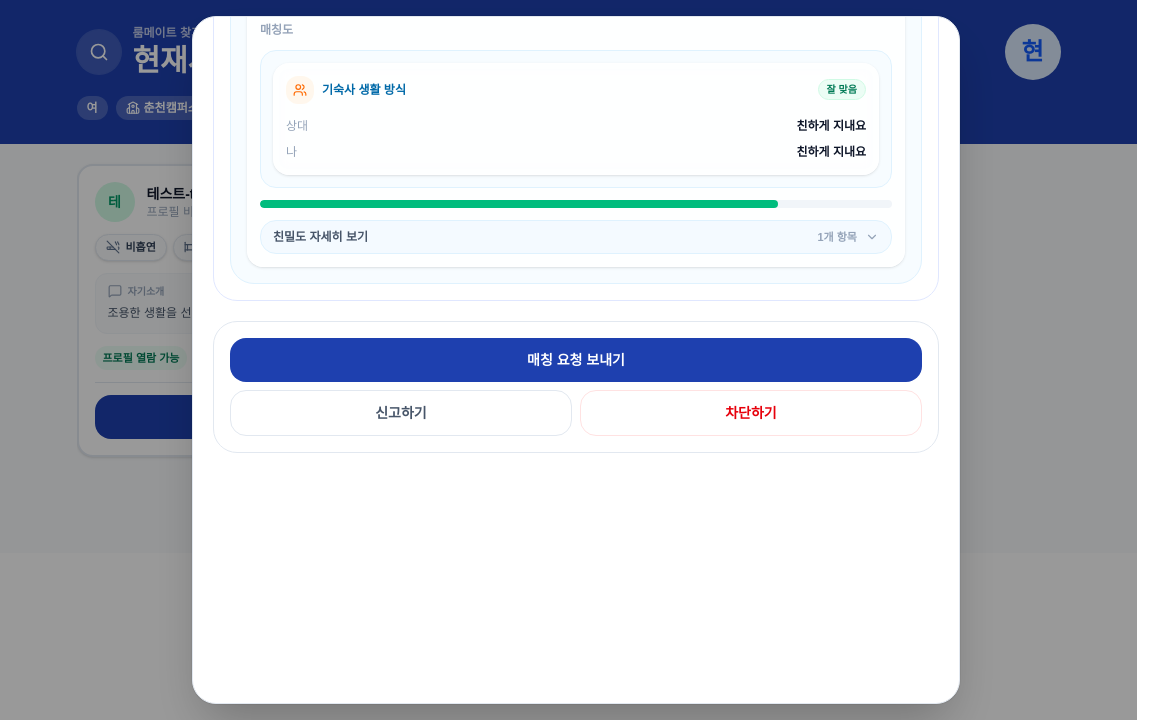
Test: RoommateListTab search shell › detail modal의 매칭 요청 action은 match request dialog를 연다
The width and height of the screenshot is (1152, 720).
(page scrolled)
Click the button "매칭 요청 보내기" at {"x": 576, "y": 360}, box [230,338,922,382]
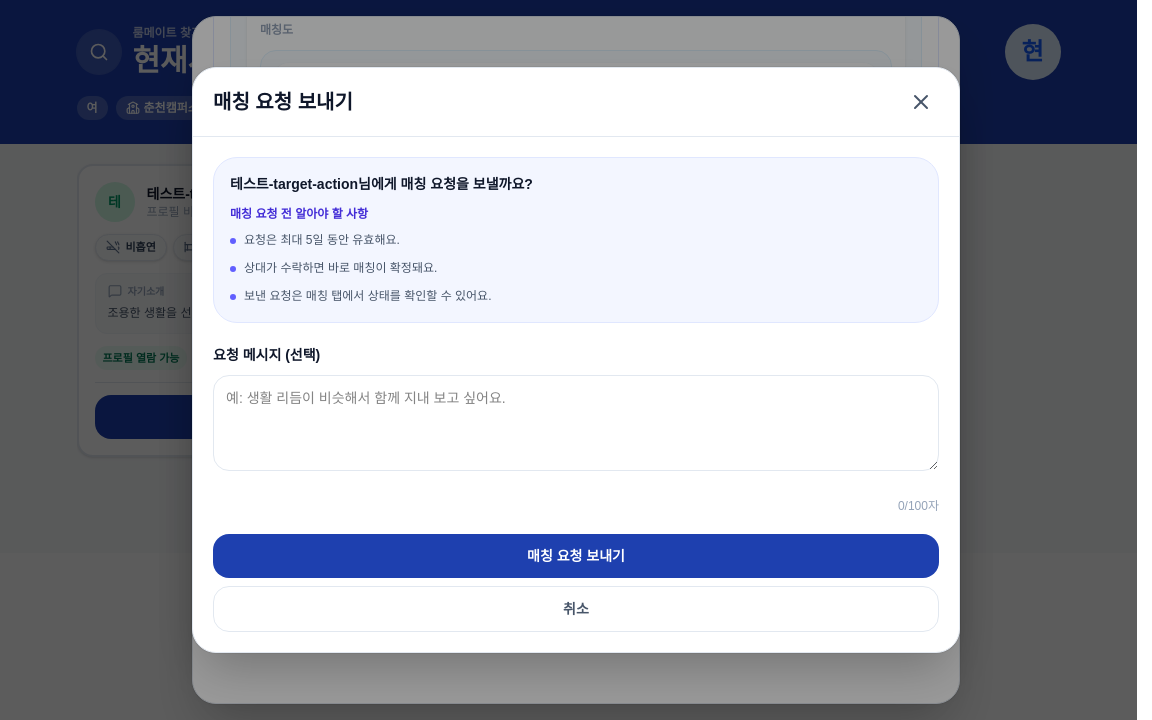
Check: the dialog "매칭 요청 보내기" shows "테스트-target-action님에게 매칭 요청을 보낼까요?", box [230,176,533,192]
